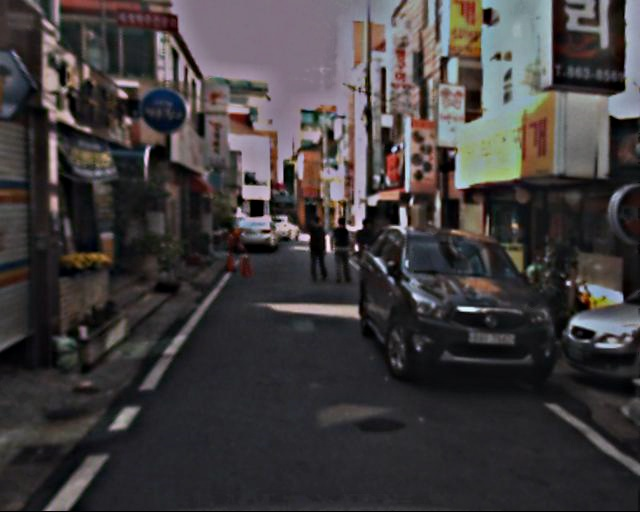person: (349, 218, 379, 291), (327, 216, 356, 287), (303, 212, 332, 282)
